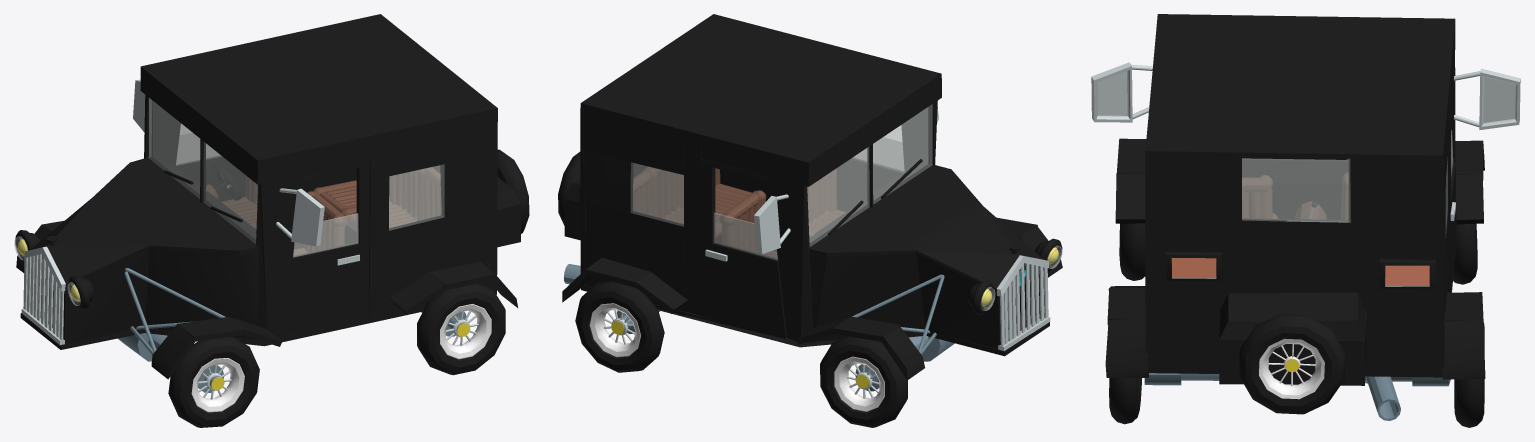
File: car-prewar-hotrod-donor.glb
The picture shows the model from 3 angles, left to right: view 1: azimuth 30°, elevation 25°; view 2: azimuth 150°, elevation 25°; view 3: azimuth 270°, elevation 25°; orthographic projection. The views are drawn at different scales.
Parts seen in each view (by area): view 1: group1643766101; view 2: group1643766101; view 3: group1643766101.
Boxes of the visible parts, <box> form: group1643766101: <box>14,14,529,427</box>; group1643766101: <box>558,14,1062,427</box>; group1643766101: <box>1091,14,1520,427</box>.
Bounding box in the file's own units: 4.6 × 2.37 × 3.1.
